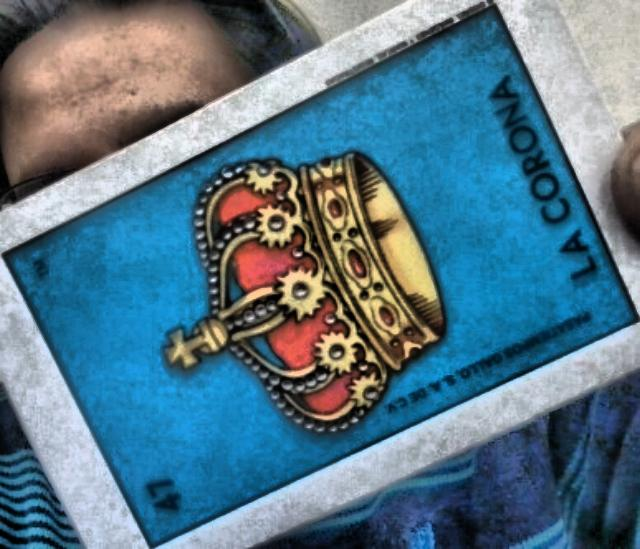La Corona: (6, 3, 638, 547)
